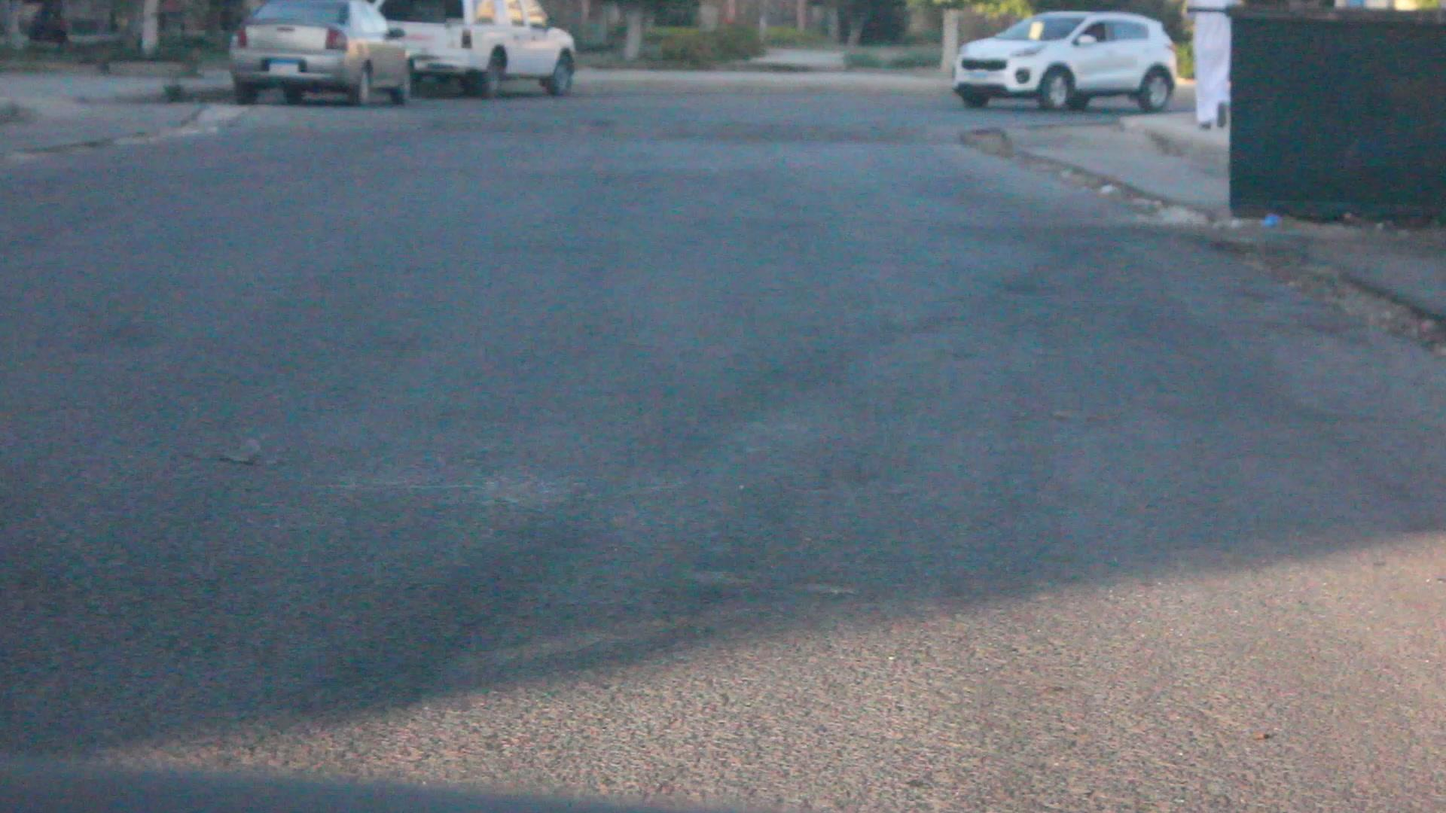Bump: (205, 94, 968, 151)
